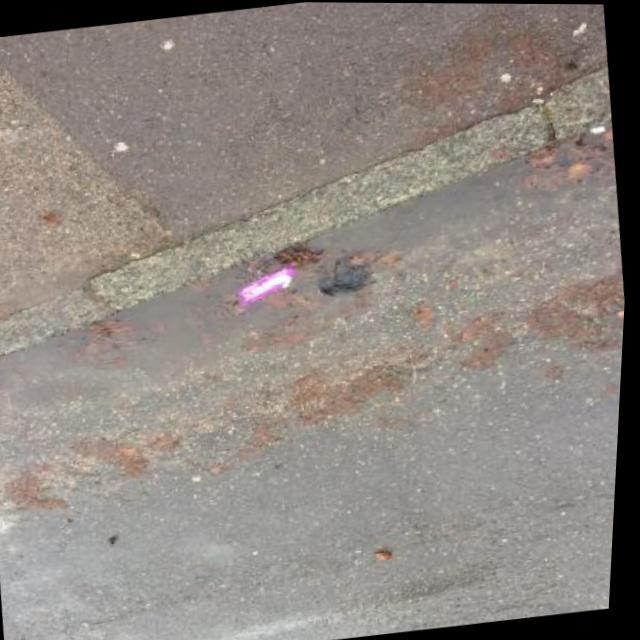plastic: (235, 265, 299, 306)
